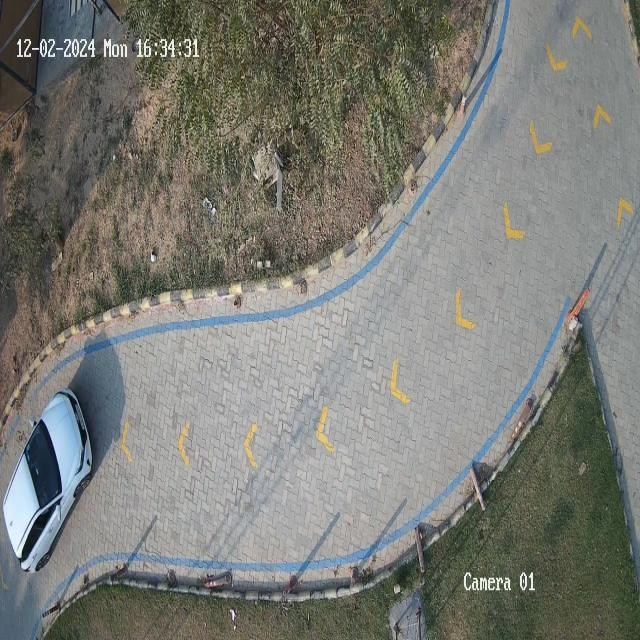car: (2, 389, 92, 572)
